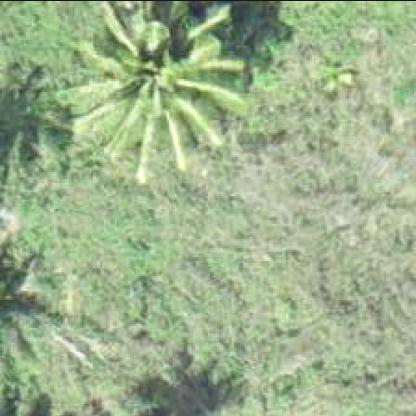coconut tree: (72, 1, 254, 184)
